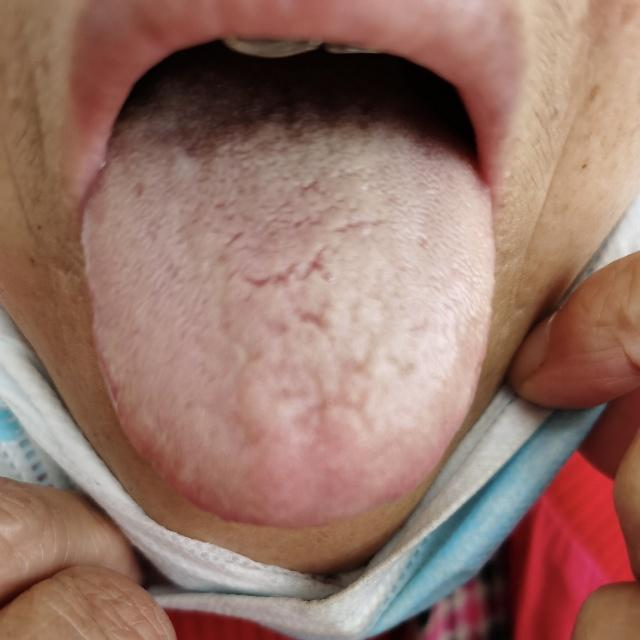baitaishe: (82, 108, 496, 526)
pangdashe: (82, 109, 496, 527)
